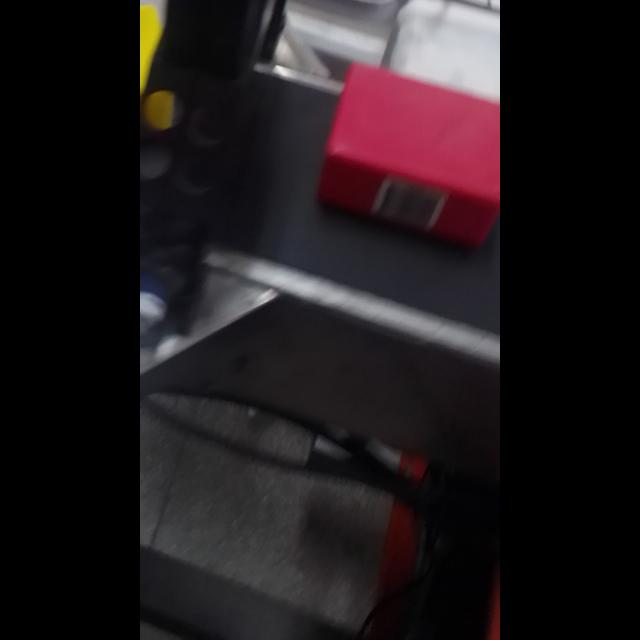redBox: (318, 48, 500, 266)
yellowBox: (140, 0, 186, 166)
